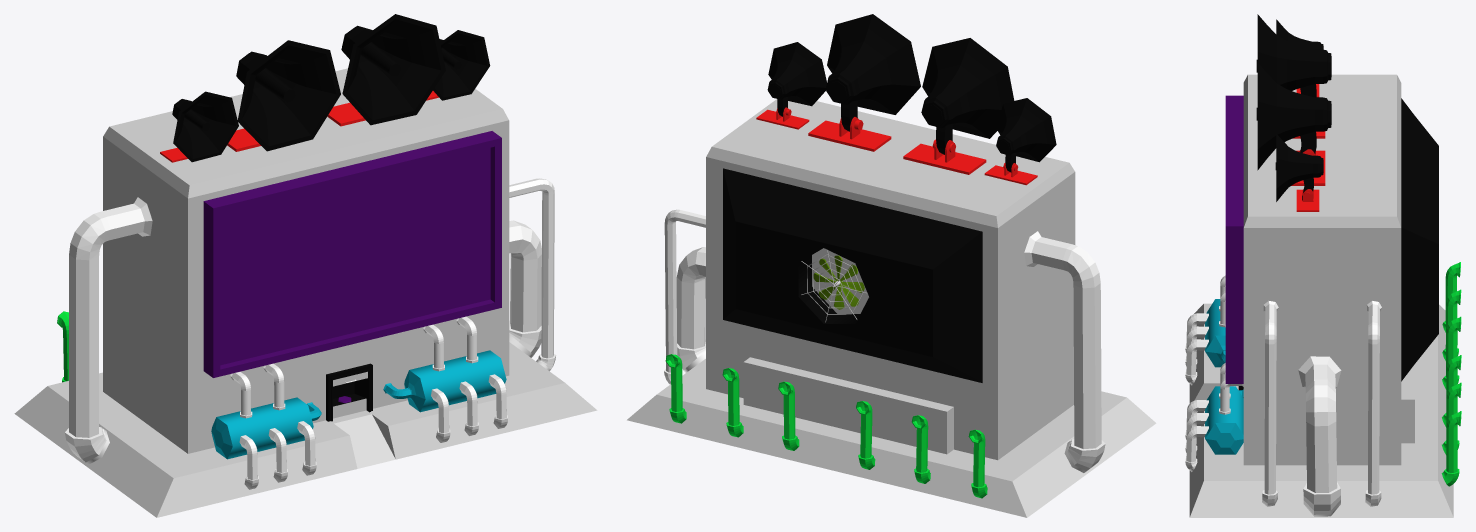
File: Machine.FBX
3 views of the same model, side by side, from view 1: azimuth 30°, elevation 25°; view 2: azimuth 150°, elevation 25°; view 3: azimuth 270°, elevation 25° (orthographic). The views are drawn at different scales.
Visible parts, largest first — view 1: Machine; view 2: Machine; view 3: Machine.
Boxes of the visible parts, x1,y1,x2,y2 form: Machine: [14, 14, 597, 517]; Machine: [627, 14, 1156, 517]; Machine: [1185, 14, 1461, 517].
Bounding box in the file's own units: 38289 × 31918 × 21010.
